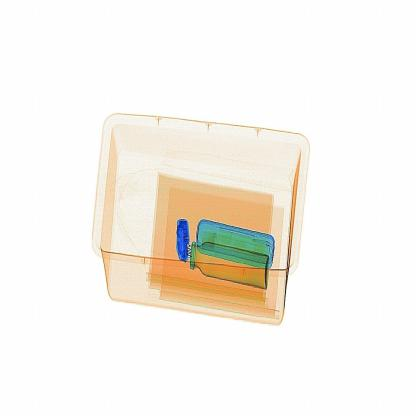scissors: (168, 207, 197, 267)
